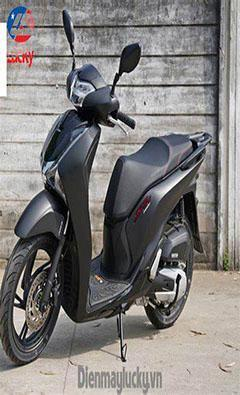motorcycle: (0, 3, 217, 376)
